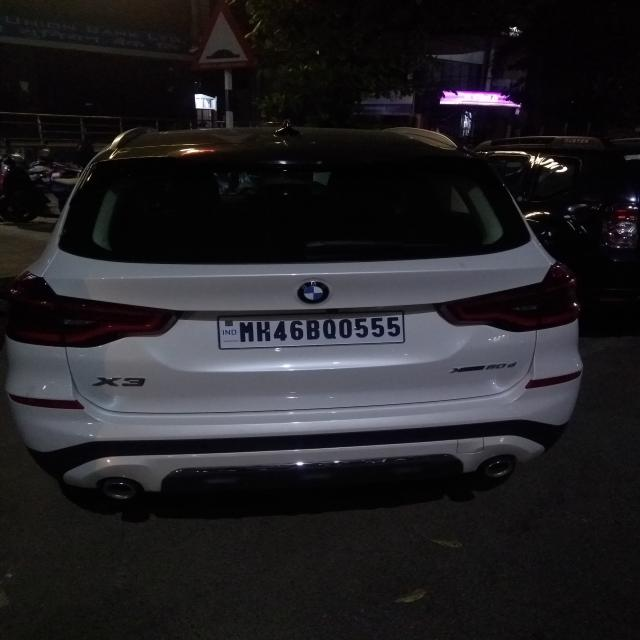Number-Plate: (222, 310, 410, 348)
